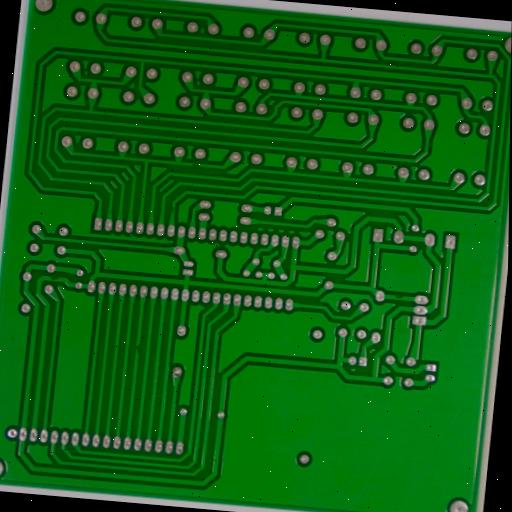mouse_bite: (132, 340, 145, 360), (45, 273, 63, 284), (392, 292, 408, 304), (188, 160, 204, 171), (167, 202, 178, 218)
